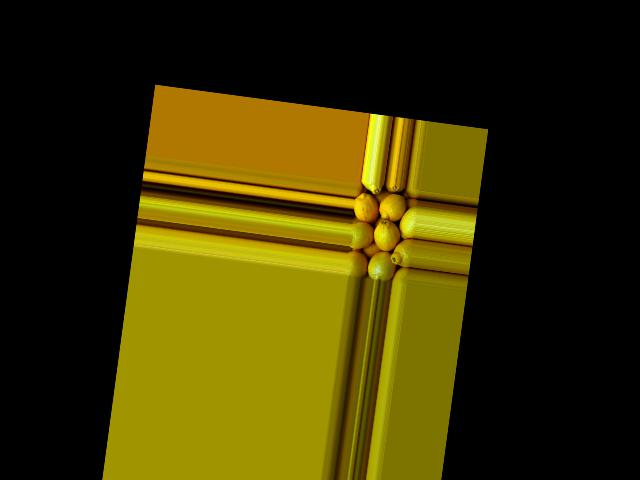lemon: (391, 266, 407, 284)
